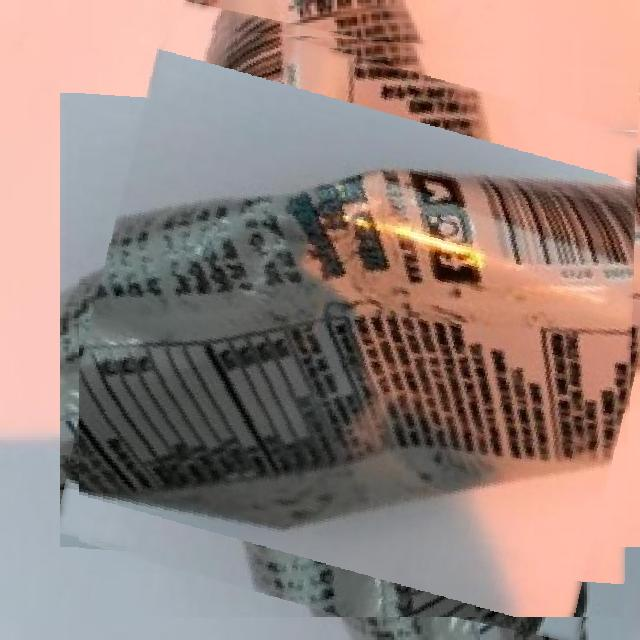recyclable: (79, 21, 640, 617)
